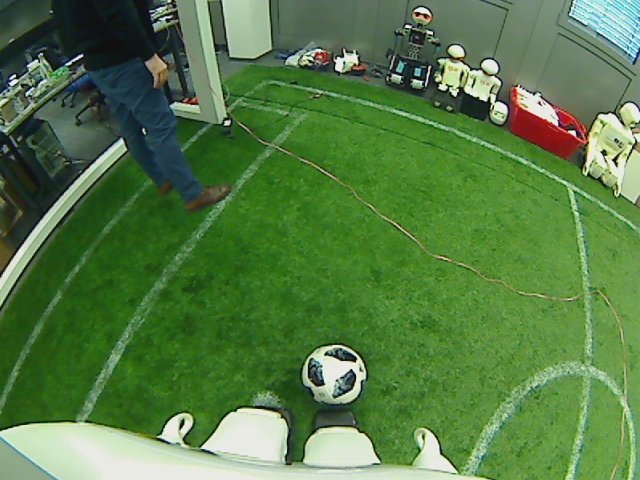ball: (299, 343, 367, 408)
